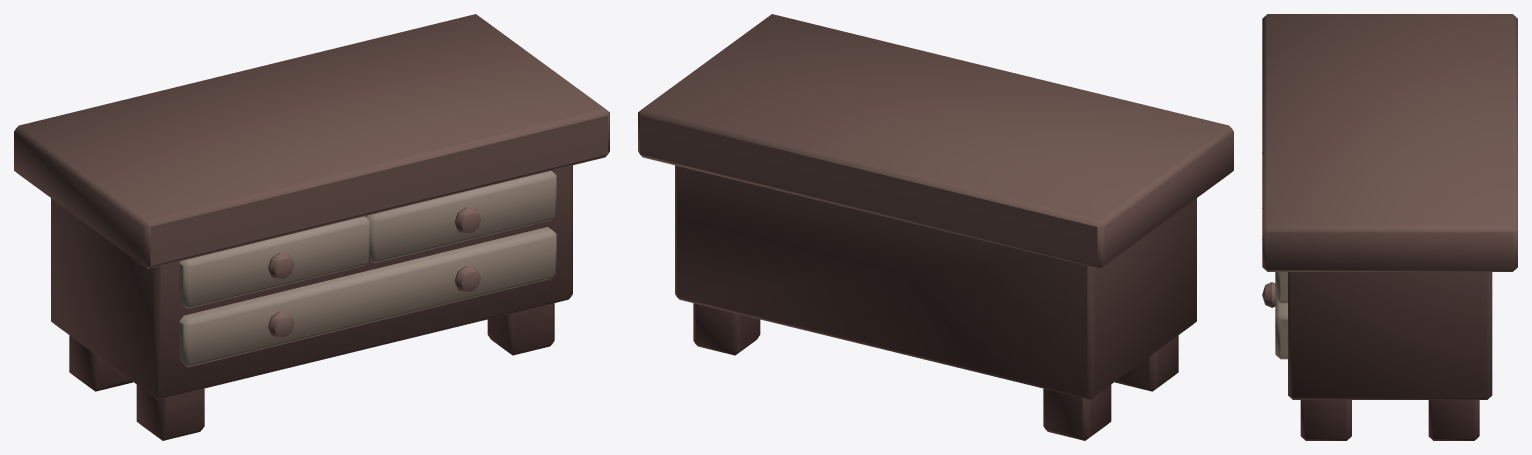
Rendered from cabinet_medium.glb.
3 renders of one model, left to right at view 1: azimuth 30°, elevation 25°; view 2: azimuth 150°, elevation 25°; view 3: azimuth 270°, elevation 25°, orthographic. The views are drawn at different scales.
Visible parts, largest first — view 1: cabinet_medium; view 2: cabinet_medium; view 3: cabinet_medium.
Boxes of the visible parts, <box> form: cabinet_medium: <box>14,14,609,440</box>; cabinet_medium: <box>638,14,1233,440</box>; cabinet_medium: <box>1262,14,1517,440</box>.
Bounding box in the file's own units: 2 × 1 × 1.
Materials: 1 (1 with a texture image).
